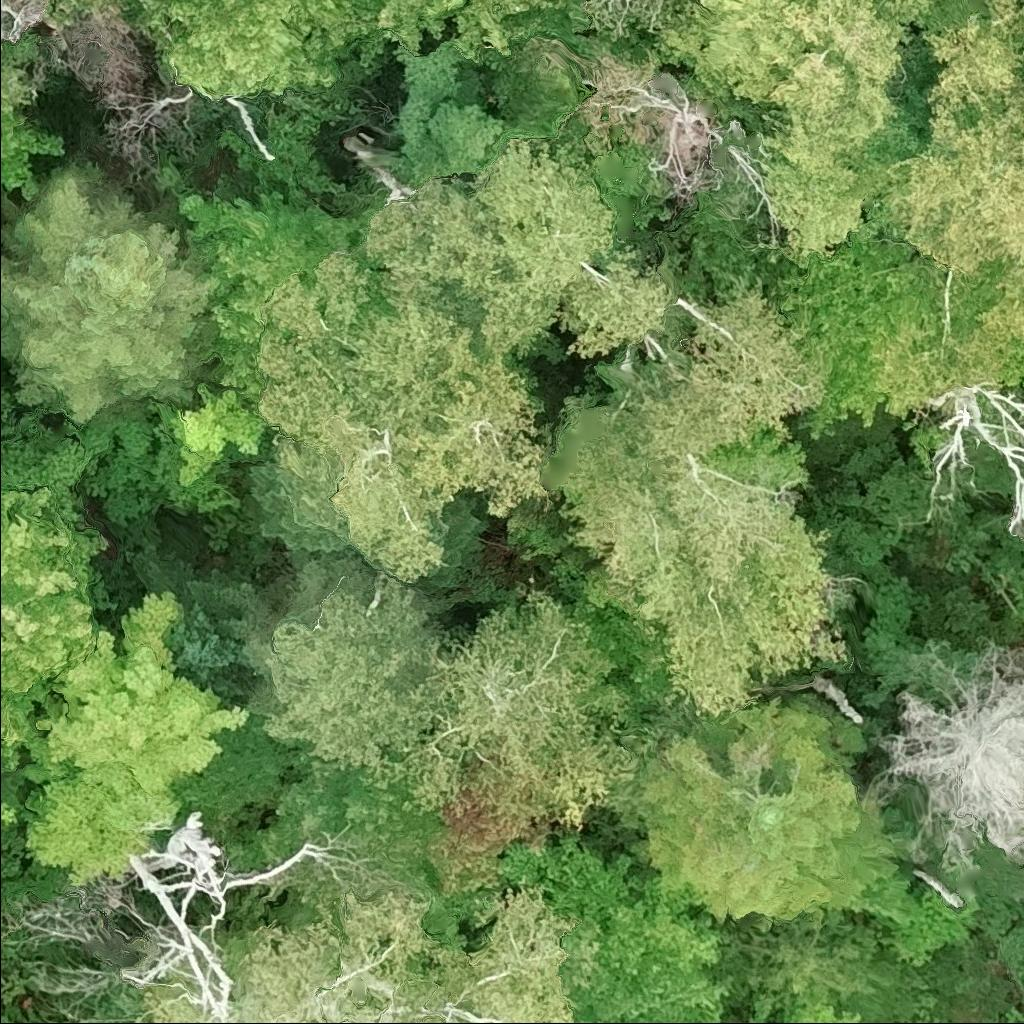crown: (252, 133, 672, 581), (555, 356, 847, 713), (653, 0, 981, 260), (18, 589, 294, 886), (608, 695, 900, 925), (360, 591, 630, 832), (872, 0, 1023, 414), (0, 160, 214, 433), (153, 156, 378, 409), (860, 642, 1023, 865), (261, 584, 442, 766), (0, 485, 107, 748), (124, 536, 272, 709), (142, 0, 364, 95), (693, 282, 826, 432), (148, 383, 265, 515), (355, 0, 563, 58), (0, 34, 67, 201), (0, 742, 25, 830), (0, 0, 47, 41)
